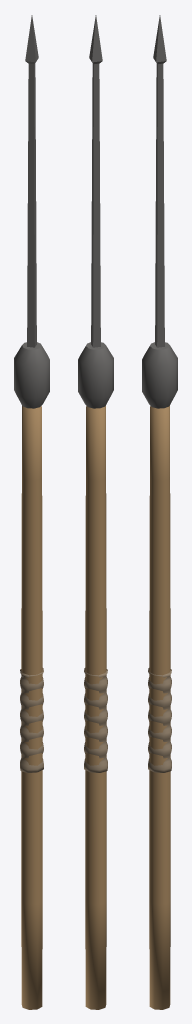
The model's file is pilum.glb.
The picture shows the model from 3 angles, left to right: view 1: azimuth 30°, elevation 25°; view 2: azimuth 150°, elevation 25°; view 3: azimuth 330°, elevation 25°; orthographic projection.
Visible parts, largest first — view 1: pilum; view 2: pilum; view 3: pilum.
Boxes of the visible parts, left/top/right/bottom form: pilum: left=14, top=15, right=49, bottom=1009; pilum: left=78, top=15, right=113, bottom=1009; pilum: left=142, top=15, right=177, bottom=1009.
Size of the model in its own units: 0.1 by 3.05 by 0.0951.
